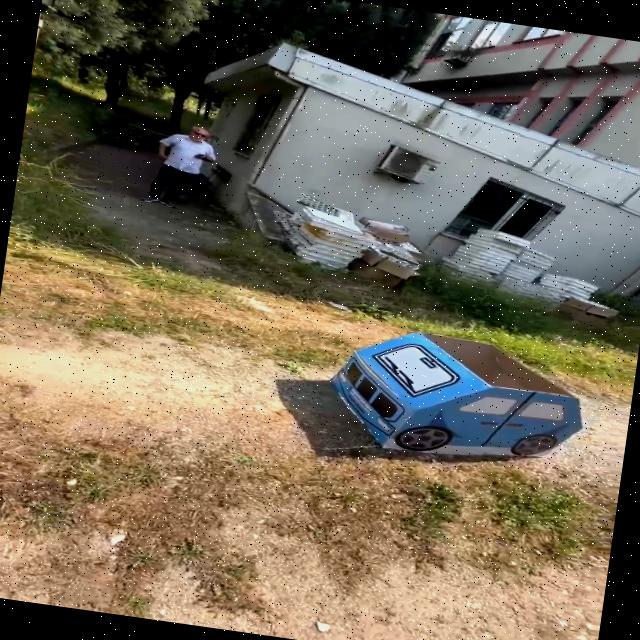blue_car: (306, 307, 603, 485)
